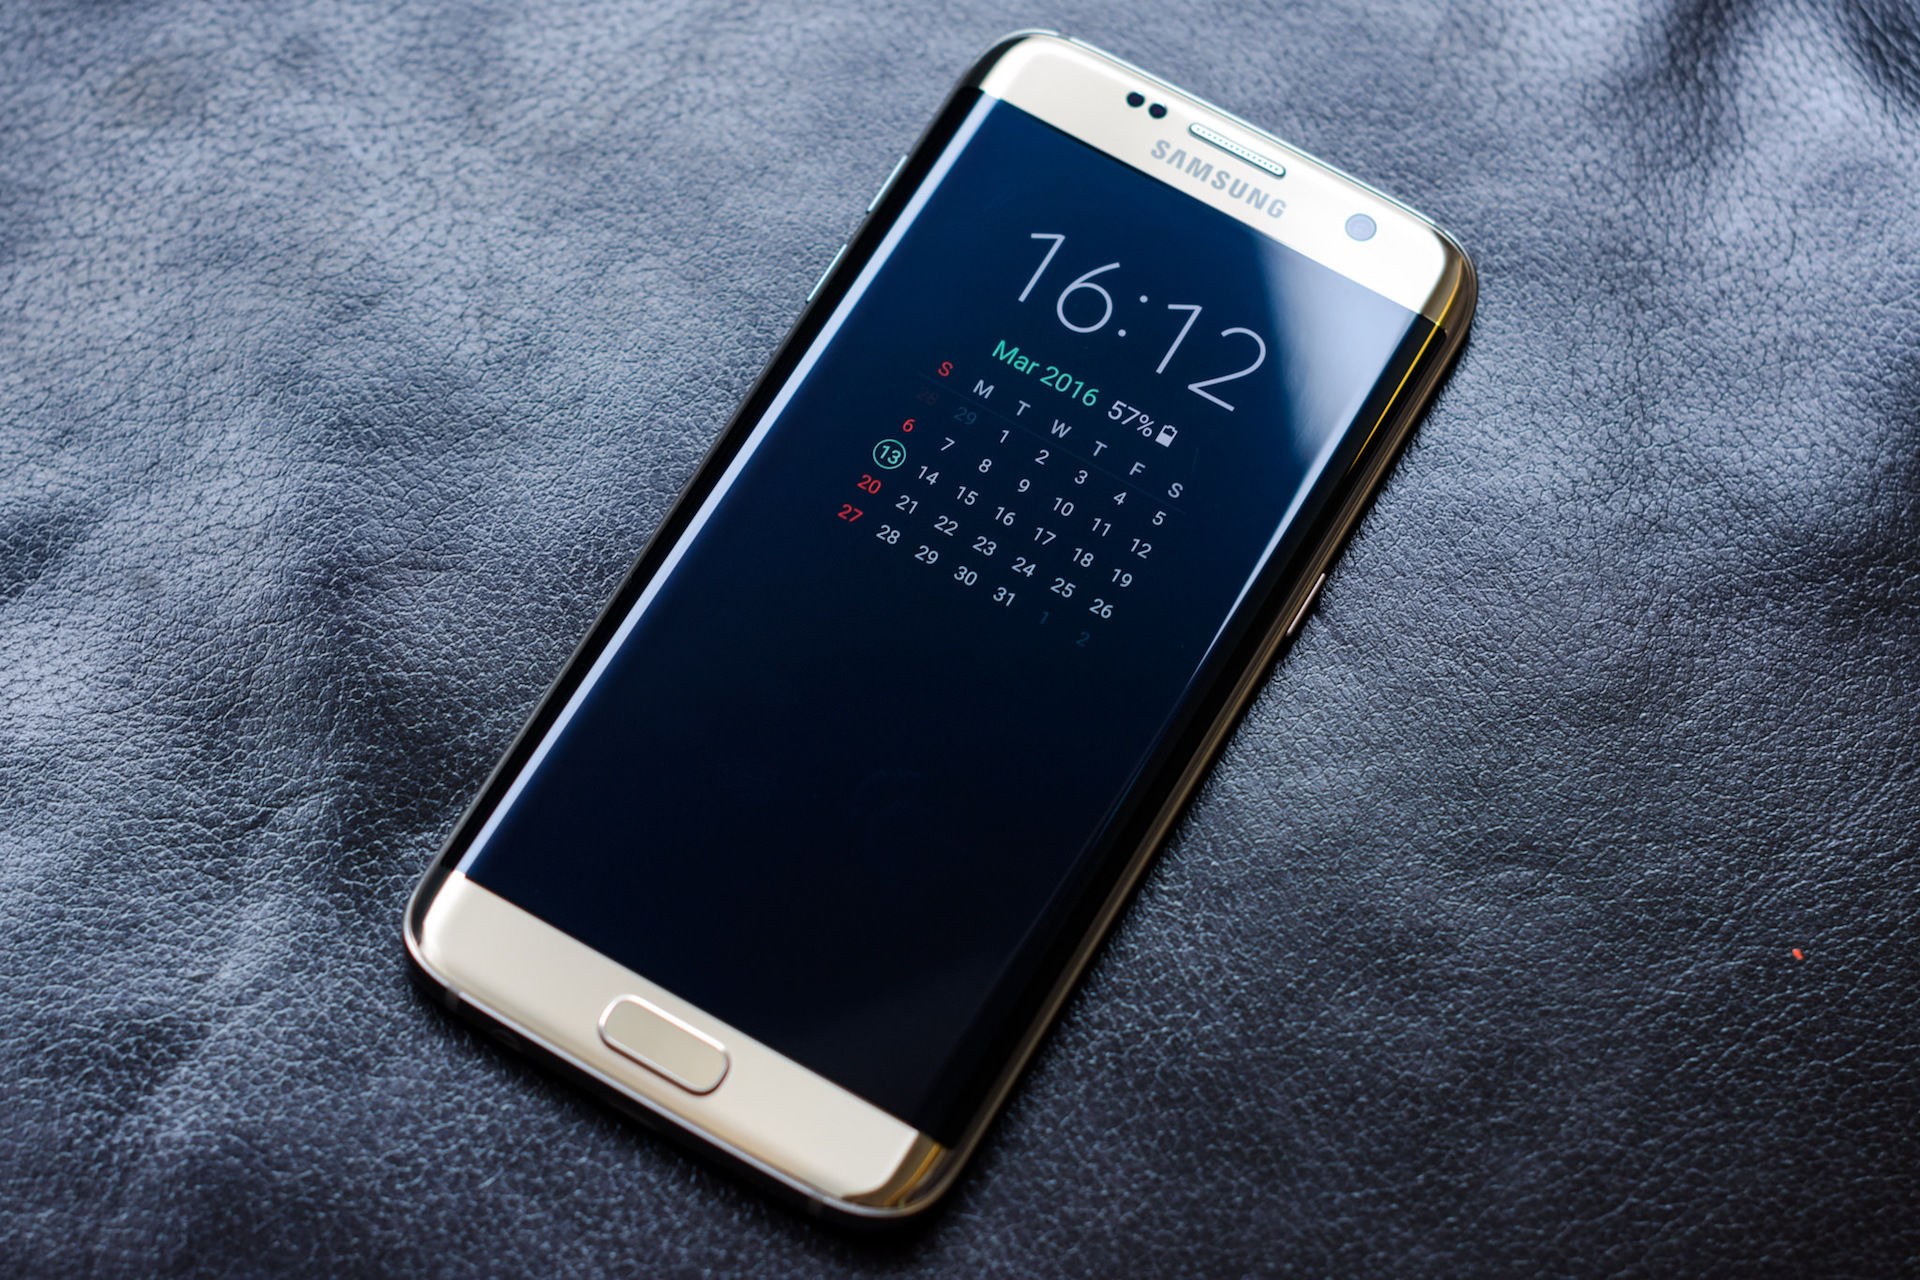smartphone: (397, 26, 1483, 1226)
